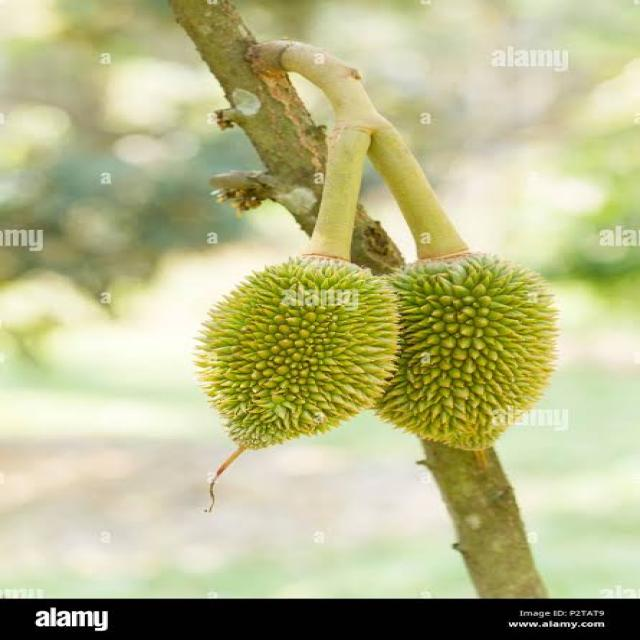immature: (189, 255, 404, 455), (363, 257, 563, 457)
